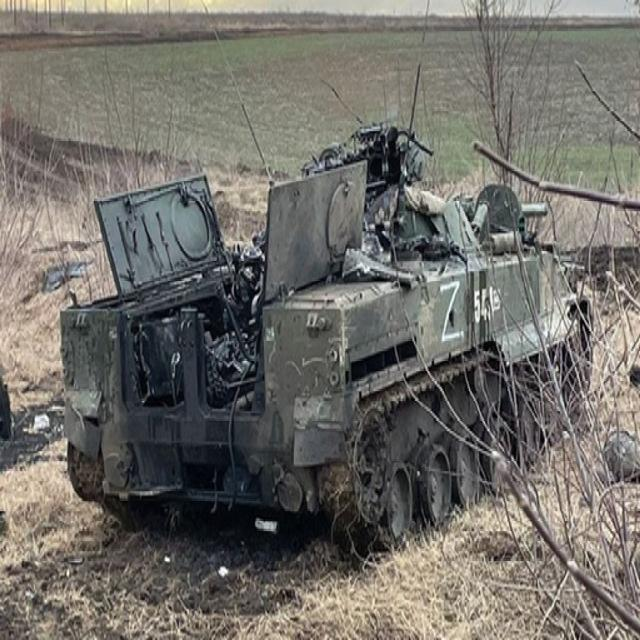APC-IFV: (55, 109, 594, 562)
